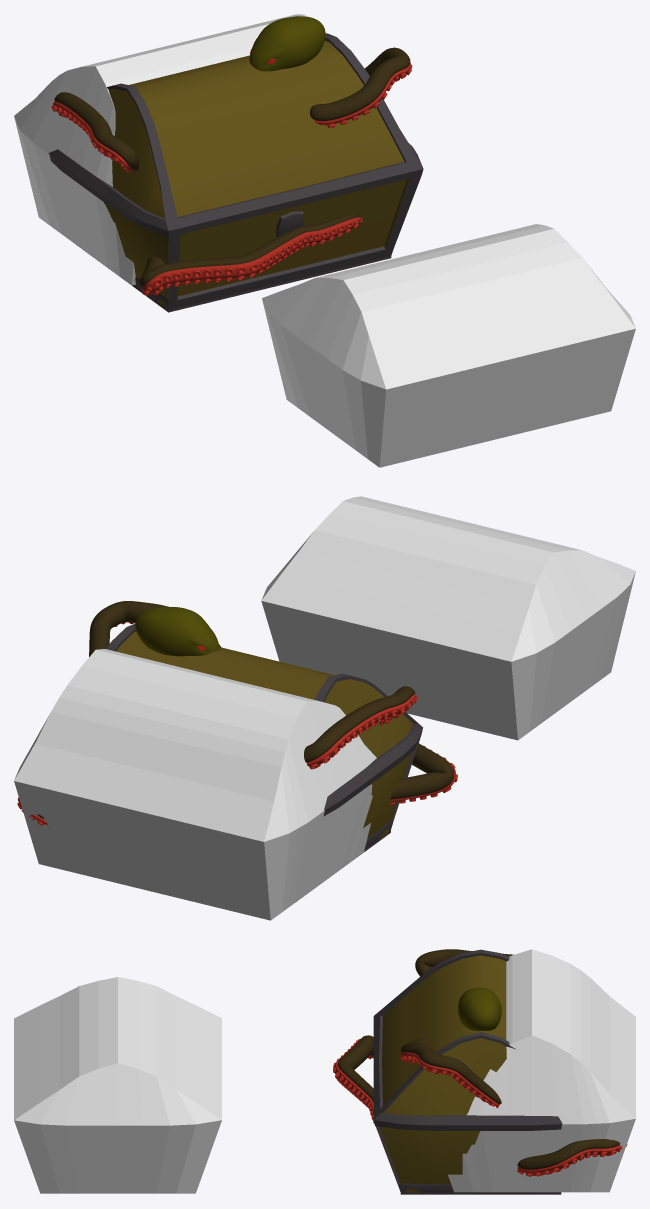
Rendered from chest.fbx.
3 renders of one model, top to bottom at view 1: azimuth 30°, elevation 25°; view 2: azimuth 150°, elevation 25°; view 3: azimuth 270°, elevation 25°, orthographic. The views are drawn at different scales.
Parts seen in each view (by area): view 1: Cube.092, Chest Body, Cube.095, Chest Body.004, Chest Body.001, Chest Body.003, BezierCurve.004, Sphere, BezierCurve, BezierCurve.001, Chest Body.002; view 2: Cube.095, Cube.092, Chest Body, Sphere, BezierCurve.001, Chest Body.003, BezierCurve.004, BezierCurve, Chest Body.004, Chest Body.001; view 3: Cube.092, Cube.095, Chest Body, Chest Body.003, Chest Body.004, Chest Body.001, BezierCurve, BezierCurve.003, BezierCurve.004, Sphere, BezierCurve.001, Chest Body.002.
Boxes of the visible parts, x1=… form: Cube.092: x1=262, y1=224, x2=635, y2=467; Chest Body: x1=108, y1=40, x2=404, y2=218; Cube.095: x1=14, y1=14, x2=307, y2=285; Chest Body.004: x1=104, y1=179, x2=406, y2=308; Chest Body.001: x1=48, y1=38, x2=423, y2=309; Chest Body.003: x1=48, y1=33, x2=423, y2=230; BezierCurve.004: x1=139, y1=214, x2=362, y2=295; Sphere: x1=249, y1=16, x2=325, y2=71; BezierCurve: x1=309, y1=47, x2=412, y2=127; BezierCurve.001: x1=51, y1=92, x2=139, y2=172; Chest Body.002: x1=132, y1=256, x2=391, y2=312; Cube.095: x1=14, y1=649, x2=376, y2=920; Cube.092: x1=261, y1=496, x2=635, y2=740; Chest Body: x1=116, y1=631, x2=413, y2=757; Sphere: x1=135, y1=606, x2=219, y2=656; BezierCurve.001: x1=304, y1=686, x2=417, y2=769; Chest Body.003: x1=106, y1=624, x2=417, y2=810; BezierCurve.004: x1=390, y1=743, x2=457, y2=804; BezierCurve: x1=89, y1=601, x2=220, y2=656; Chest Body.004: x1=363, y1=753, x2=411, y2=838; Chest Body.001: x1=114, y1=629, x2=422, y2=848; Cube.092: x1=14, y1=977, x2=221, y2=1193; Cube.095: x1=448, y1=949, x2=635, y2=1192; Chest Body: x1=382, y1=955, x2=506, y2=1115; Chest Body.003: x1=373, y1=949, x2=562, y2=1125; Chest Body.004: x1=379, y1=1126, x2=479, y2=1192; Chest Body.001: x1=373, y1=953, x2=561, y2=1192; BezierCurve: x1=400, y1=1038, x2=501, y2=1108; BezierCurve.003: x1=517, y1=1139, x2=627, y2=1176; BezierCurve.004: x1=333, y1=1035, x2=375, y2=1125; Sphere: x1=458, y1=987, x2=501, y2=1030; BezierCurve.001: x1=415, y1=949, x2=513, y2=976; Chest Body.002: x1=400, y1=1192, x2=561, y2=1194.
Size of the model in its own units: 571 by 379 by 1182.
